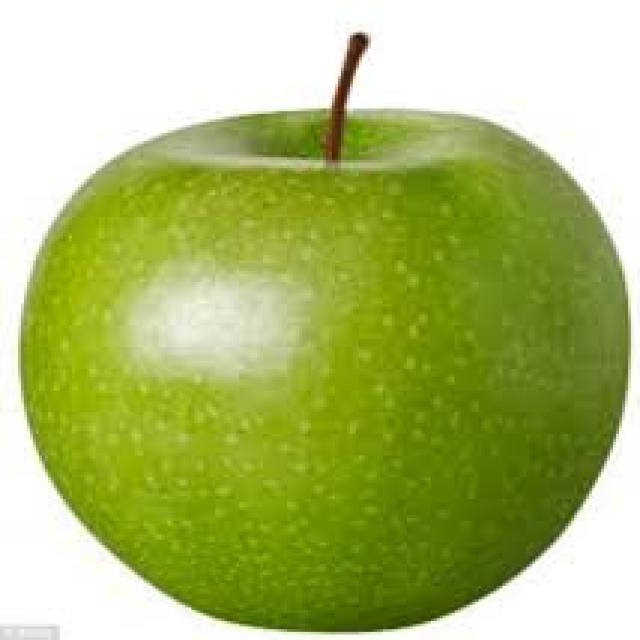biodegradable: (12, 27, 622, 629)
